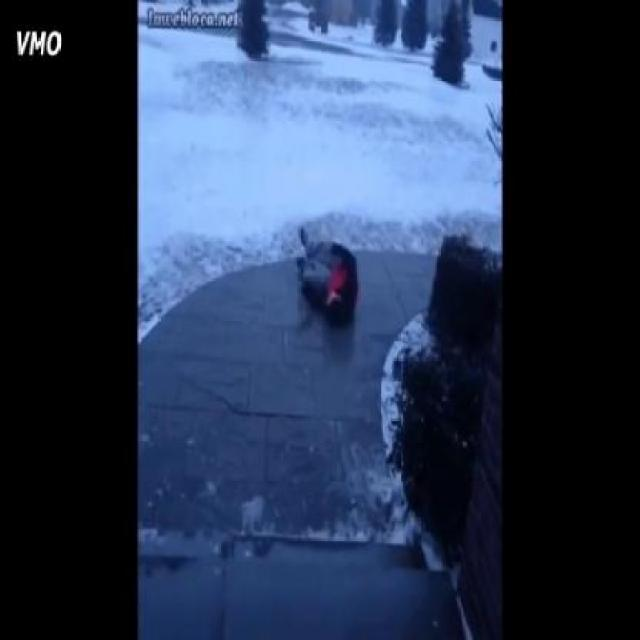fall: (296, 220, 359, 337)
